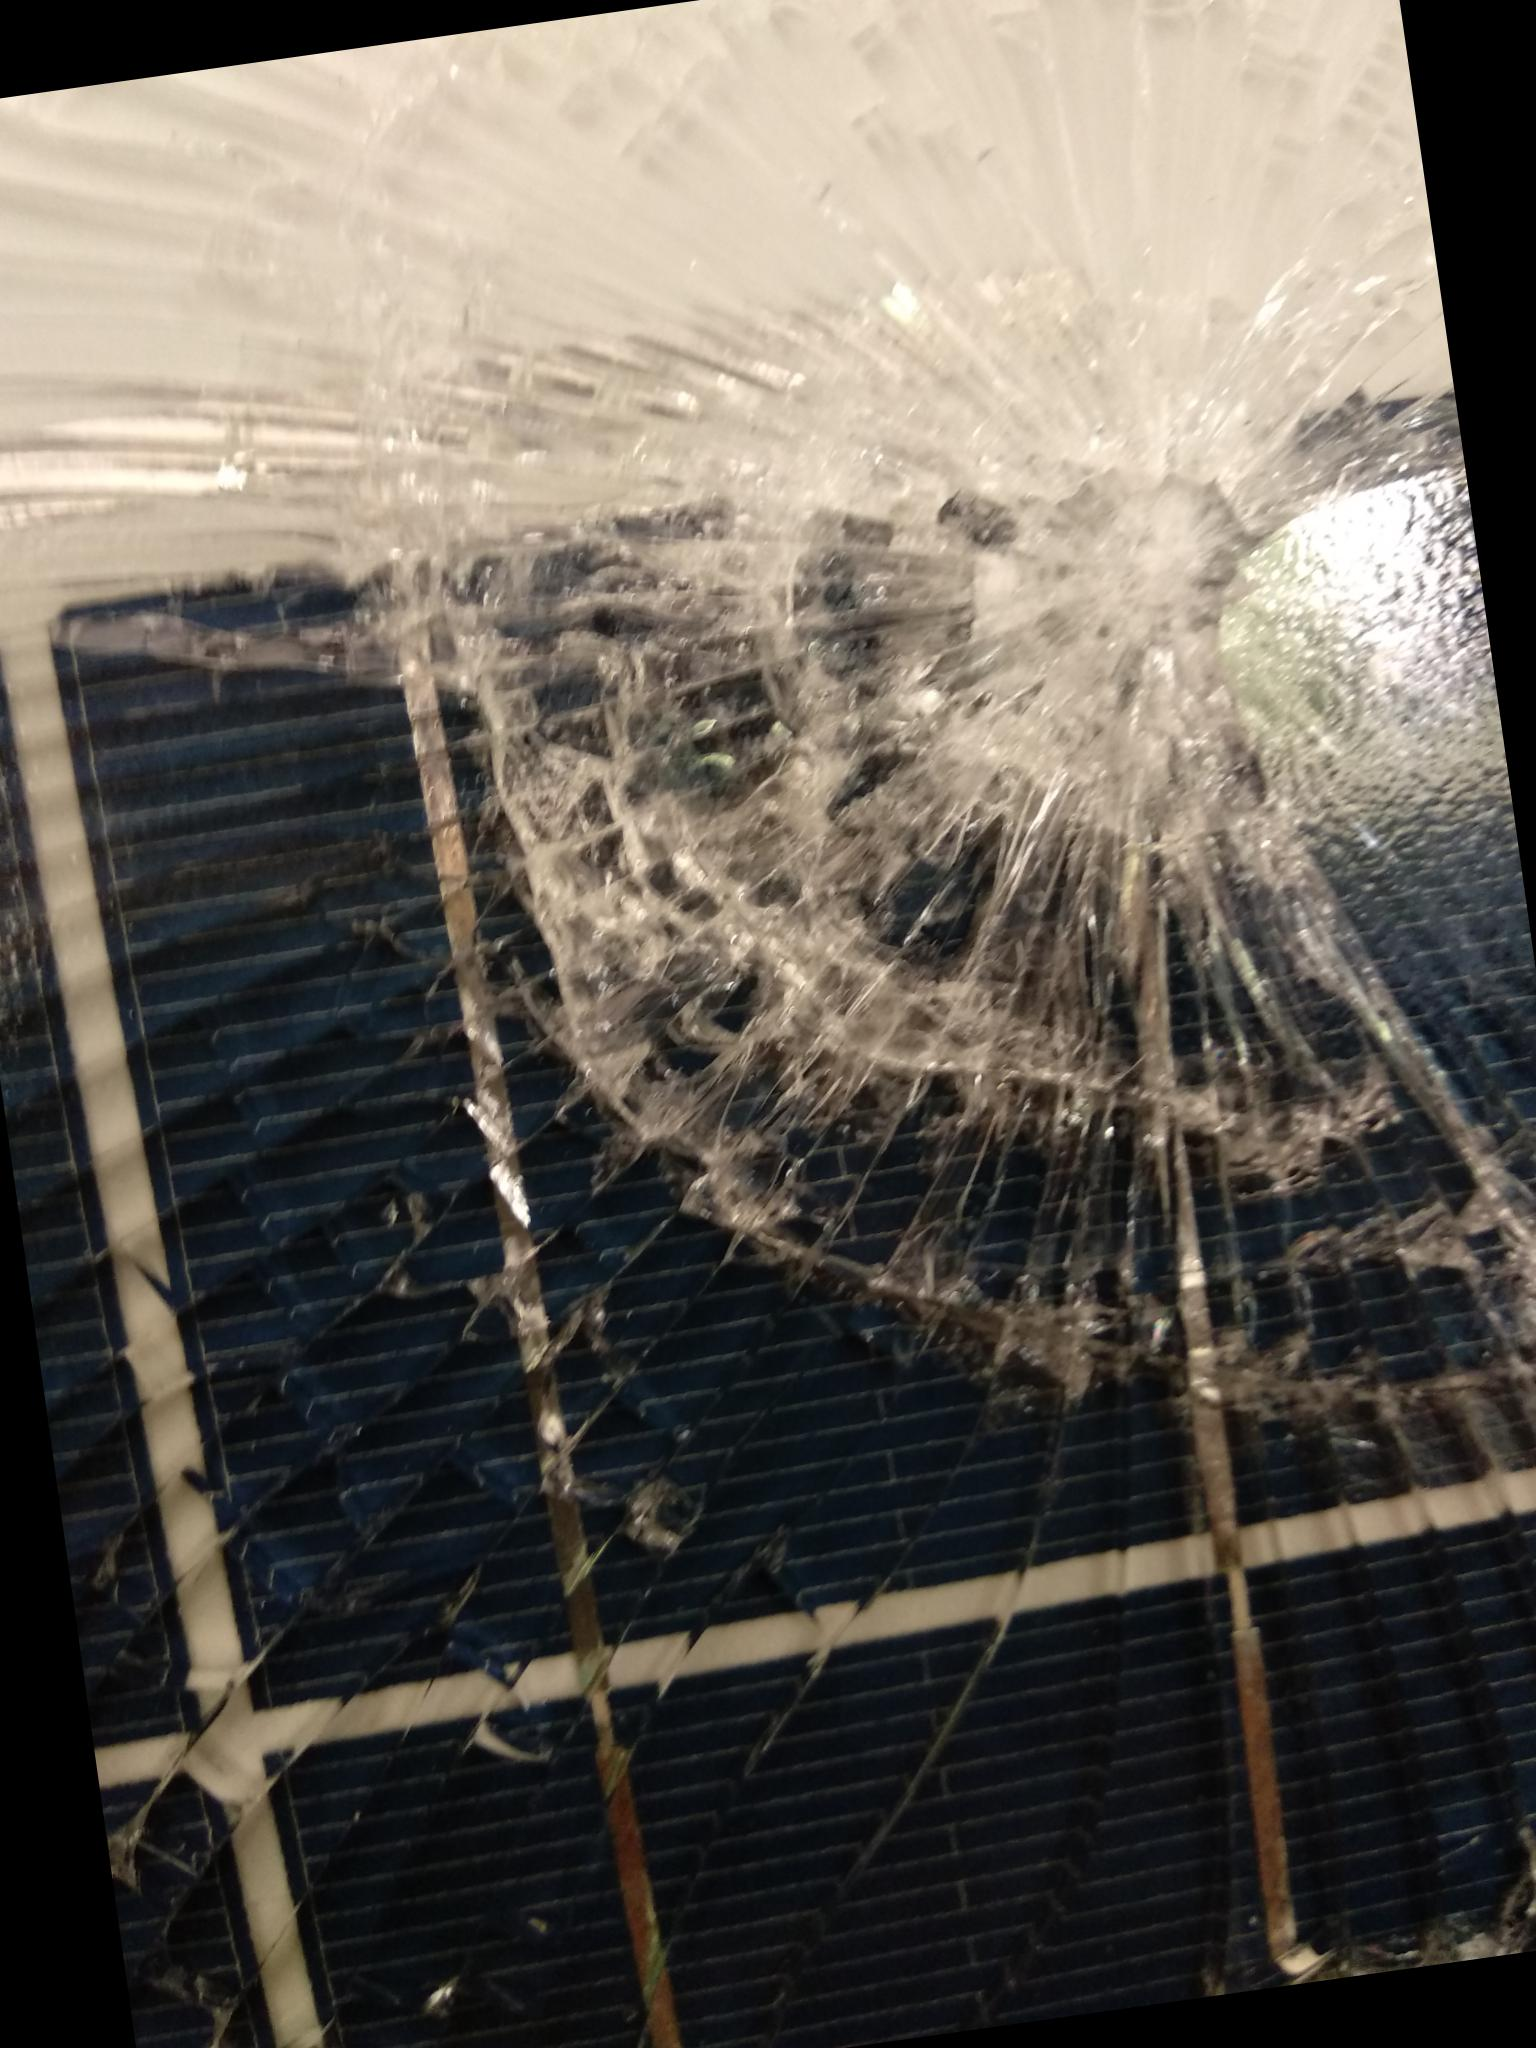Crack: (0, 0, 1534, 1953)
